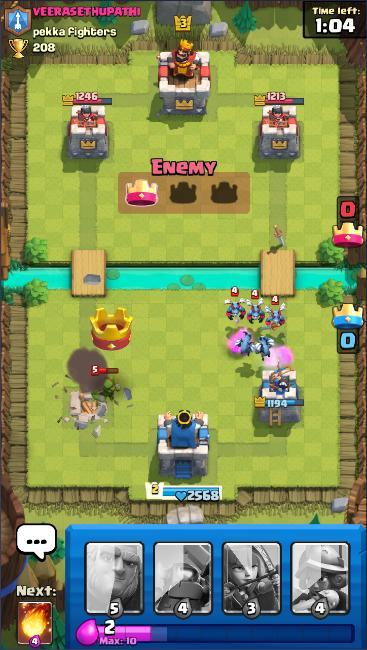ally_minion: (253, 333, 277, 362), (234, 330, 257, 358)
enemy_brawler: (89, 364, 123, 404)
enemy_minion: (244, 288, 269, 325), (224, 286, 248, 322), (264, 294, 288, 328)
